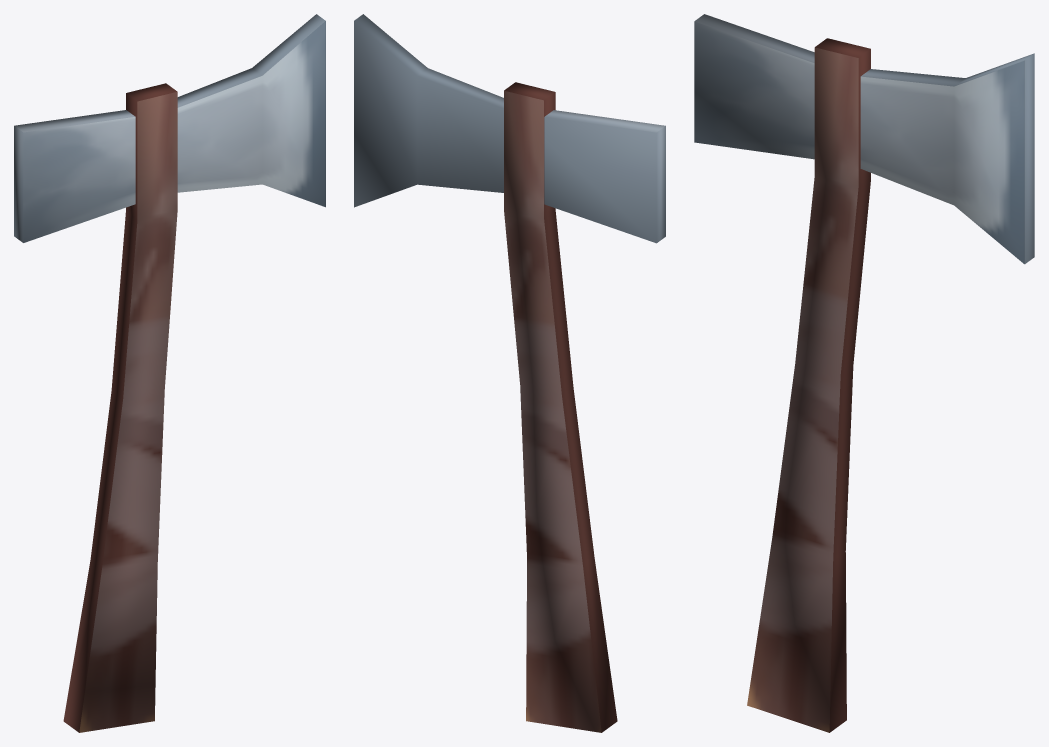
The model's file is Machado.fbx.
3 views of the same model, side by side, from view 1: azimuth 30°, elevation 25°; view 2: azimuth 150°, elevation 25°; view 3: azimuth 330°, elevation 25° (orthographic). The views are drawn at different scales.
Visible parts, largest first — view 1: Machado; view 2: Machado; view 3: Machado.
Part boxes in pixels (x1,y1,x2,y2): Machado: [14, 14, 325, 732]; Machado: [354, 14, 665, 732]; Machado: [694, 14, 1034, 732].
Size of the model in its own units: 62.8 by 5.69 by 130.
